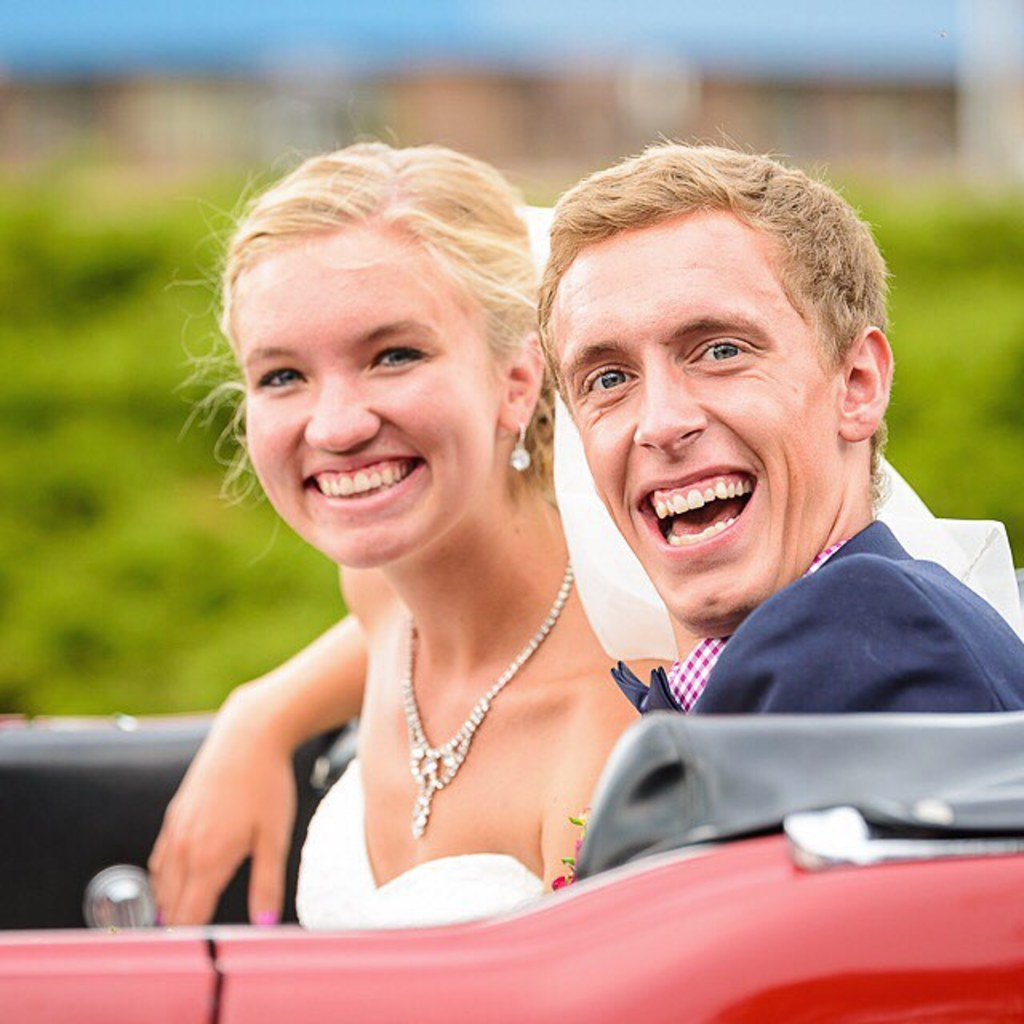Human-face: (522, 205, 842, 624), (226, 210, 485, 576)
